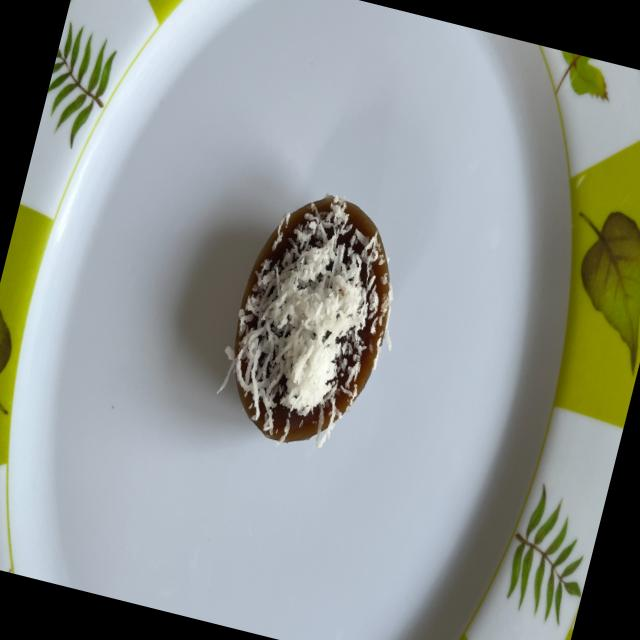Kuih lompang: (221, 195, 392, 446)
